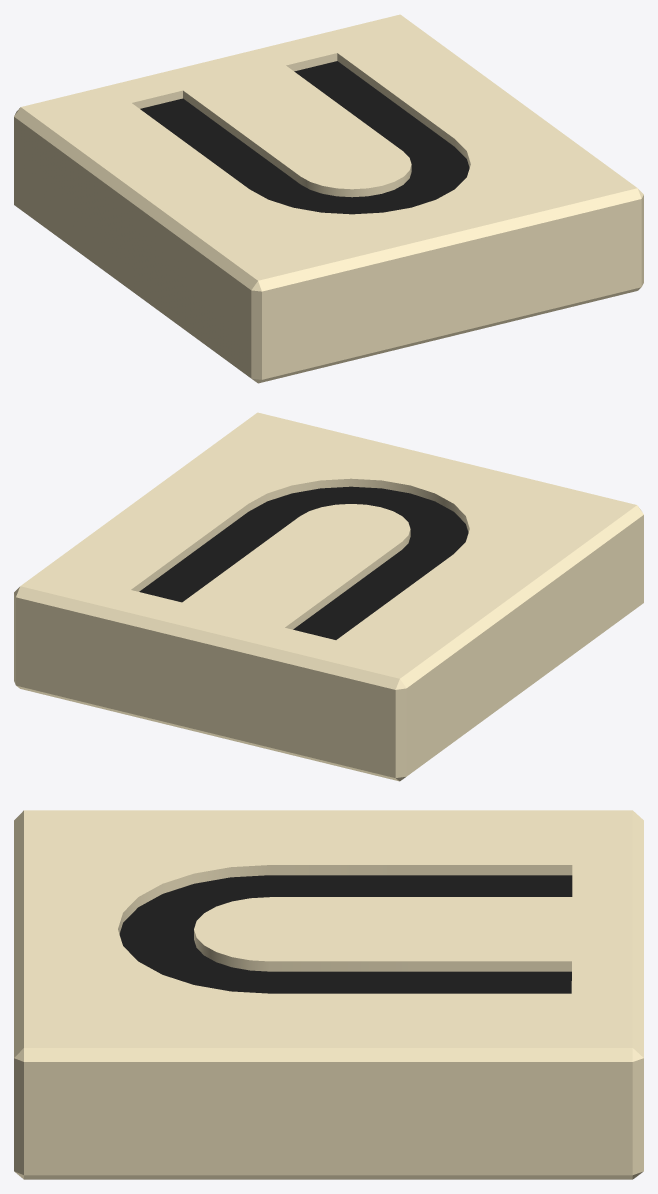
File: Game_Anagram_Tile_U_01.fbx
3 views of the same model, one above another, from view 1: azimuth 30°, elevation 25°; view 2: azimuth 150°, elevation 25°; view 3: azimuth 270°, elevation 25° (orthographic). The views are drawn at different scales.
Parts seen in each view (by area): view 1: Model; view 2: Model; view 3: Model.
Boxes of the visible parts, bbox=[...] form: Model: bbox=[14, 14, 643, 383]; Model: bbox=[14, 412, 643, 781]; Model: bbox=[14, 810, 643, 1179].
Size of the model in its own units: 463 by 116 by 502.
